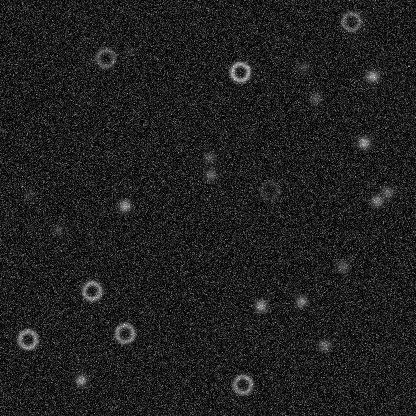Ring: (112, 321, 136, 345), (79, 278, 103, 302), (230, 372, 254, 396), (15, 327, 39, 351), (257, 178, 281, 202), (228, 59, 252, 83), (339, 9, 363, 33), (93, 45, 117, 69)
Spot: (252, 297, 268, 313), (379, 184, 395, 200), (293, 293, 309, 309), (316, 337, 332, 353), (120, 43, 136, 59), (202, 166, 218, 182), (295, 59, 311, 75), (116, 197, 132, 213), (355, 134, 371, 150), (368, 192, 384, 208), (72, 371, 88, 387), (307, 90, 323, 106), (49, 221, 65, 237), (201, 149, 217, 165), (334, 258, 350, 274), (364, 68, 380, 84), (20, 186, 36, 202)
